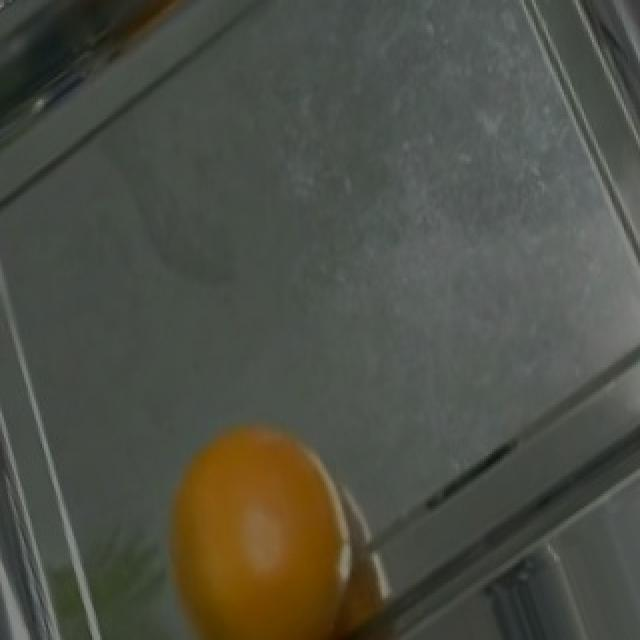Fruit: (140, 402, 382, 640)
